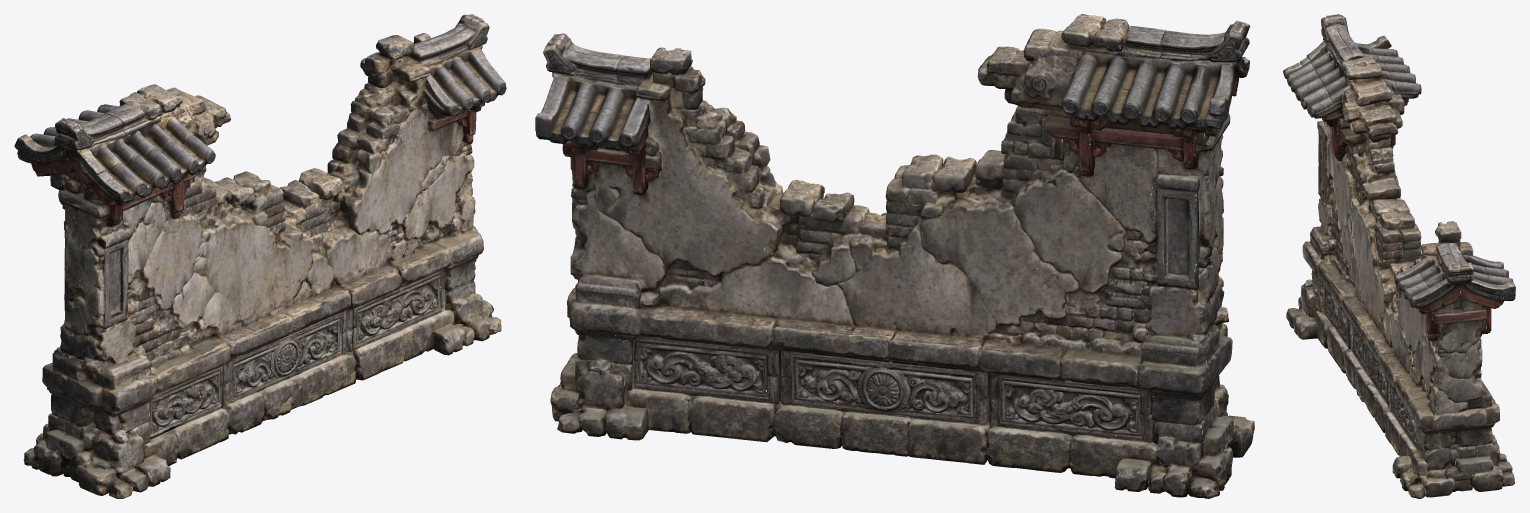
File: ruin-04.glb
3 renders of one model, left to right at view 1: azimuth 30°, elevation 25°; view 2: azimuth 150°, elevation 25°; view 3: azimuth 270°, elevation 25°, orthographic. The views are drawn at different scales.
Parts seen in each view (by area): view 1: tripo_node_53fc97f2-3124-446d-b694-375f21a732e2; view 2: tripo_node_53fc97f2-3124-446d-b694-375f21a732e2; view 3: tripo_node_53fc97f2-3124-446d-b694-375f21a732e2.
Boxes of the visible parts, x1,y1,x2,y2 form: tripo_node_53fc97f2-3124-446d-b694-375f21a732e2: (14,14,506,498); tripo_node_53fc97f2-3124-446d-b694-375f21a732e2: (535,14,1254,498); tripo_node_53fc97f2-3124-446d-b694-375f21a732e2: (1283,14,1515,498).
Bounding box in the file's own units: 0.98 × 0.6595 × 0.4763.
1 material, 1 textured.
